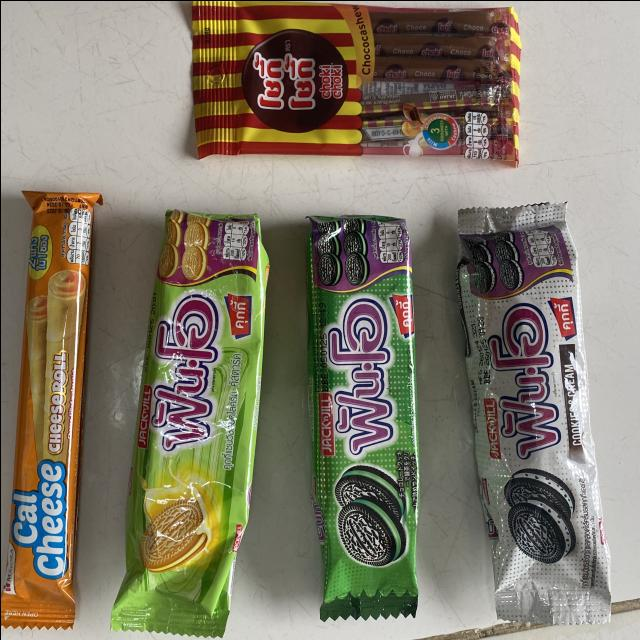plastik: (110, 210, 269, 636), (455, 203, 609, 624), (191, 0, 519, 164), (306, 215, 418, 620), (0, 190, 102, 628)
